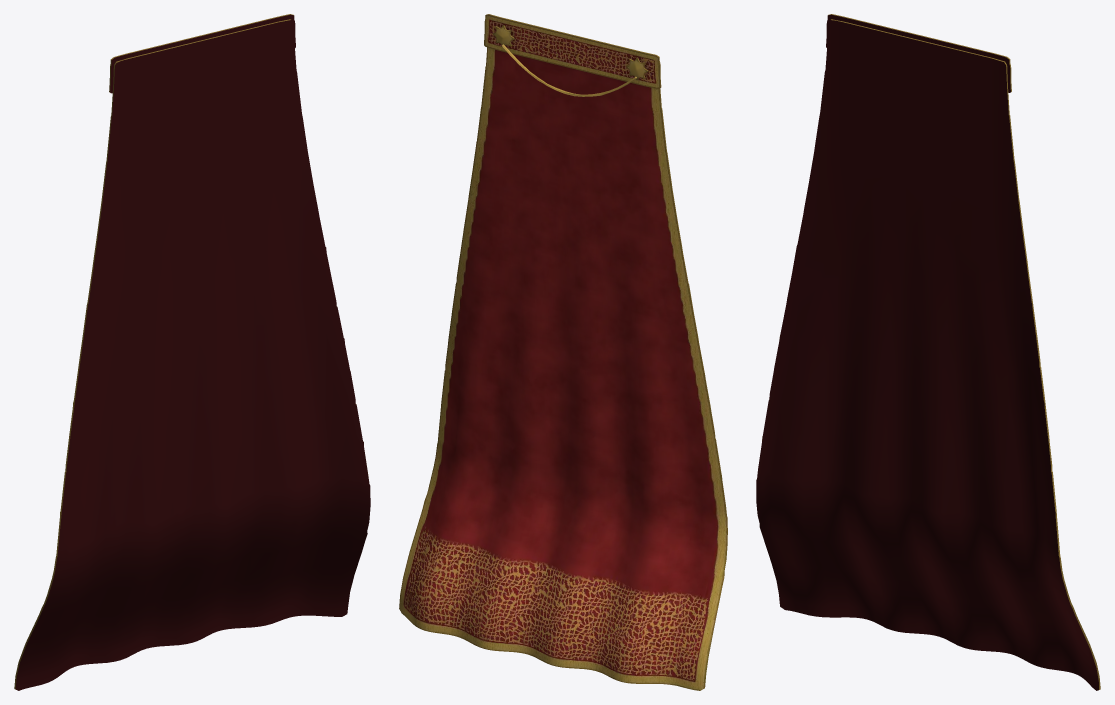
The model's file is cape_knight.glb.
The picture shows the model from 3 angles, left to right: view 1: azimuth 30°, elevation 25°; view 2: azimuth 150°, elevation 25°; view 3: azimuth 330°, elevation 25°; orthographic projection. The views are drawn at different scales.
Parts seen in each view (by area): view 1: cape; view 2: cape; view 3: cape.
Boxes of the visible parts, bbox=[...] form: cape: bbox=[14, 14, 370, 690]; cape: bbox=[399, 14, 727, 690]; cape: bbox=[756, 14, 1100, 690].
Size of the model in its own units: 0.5496 by 1.02 by 0.1453.
1 material, 1 textured.
